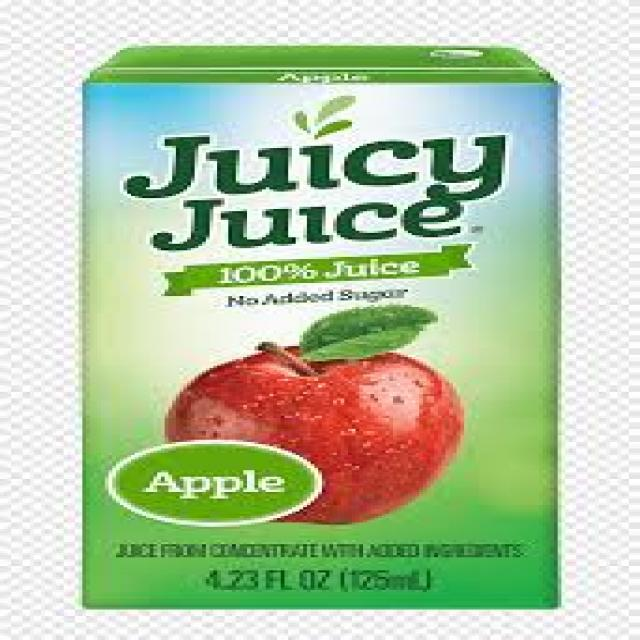non_white_jug: (66, 29, 574, 615)
